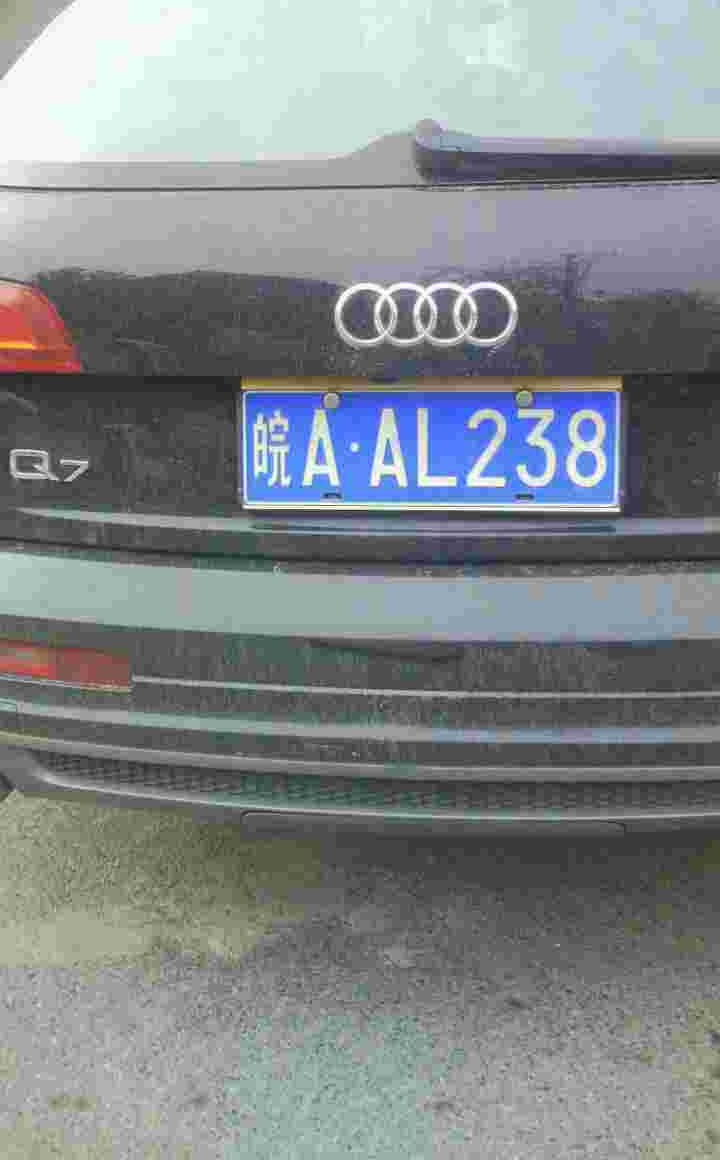license_plate: (244, 387, 616, 504)
